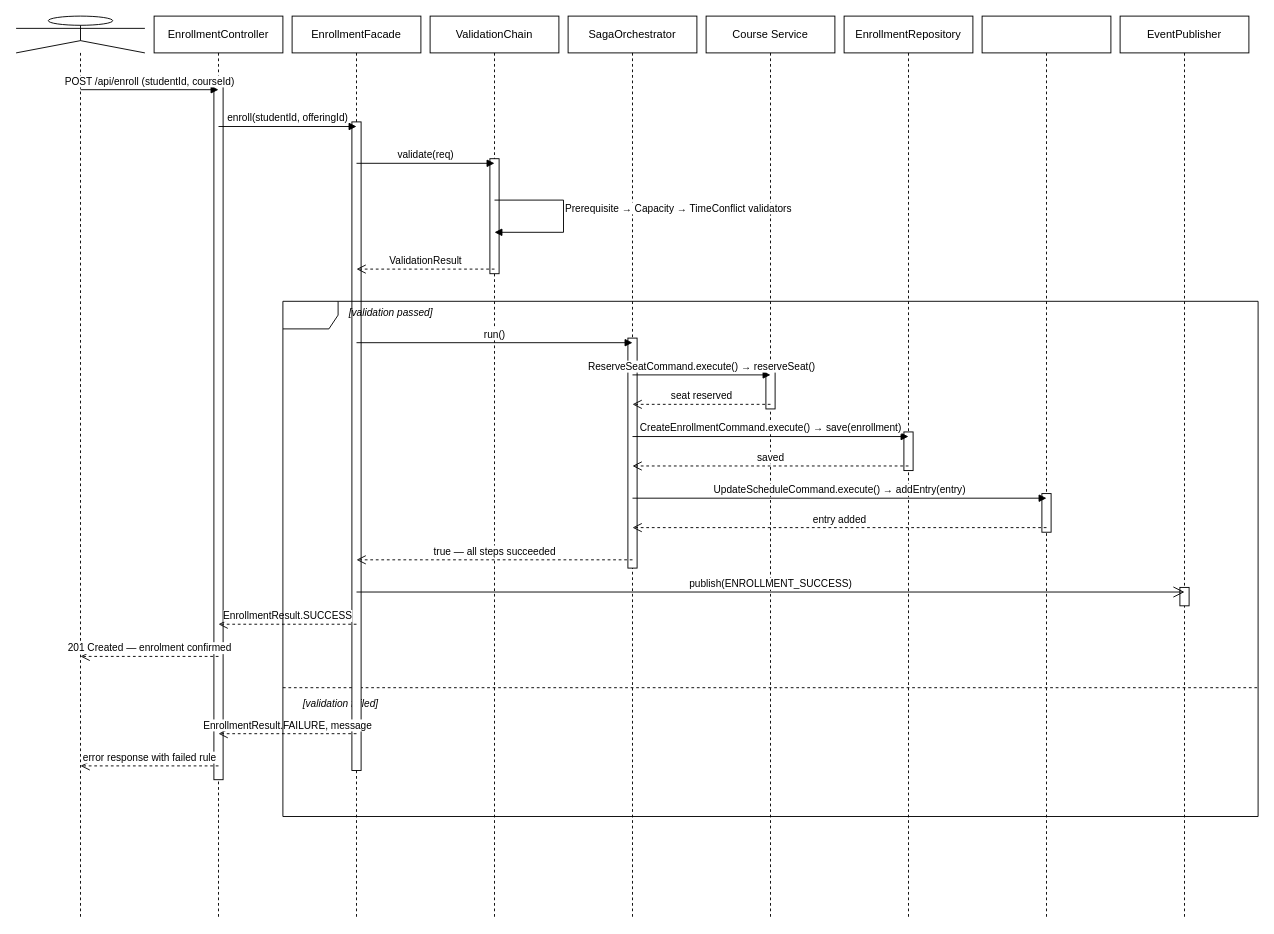
This 1274x934 diagram has some shape labels left out. The box of each missing label's shape, as (x1, y1, x2, y2) in pixels:
alt: (282, 300, 1258, 816)
Schedule Service: (981, 15, 1111, 918)
Student: (15, 15, 145, 918)
